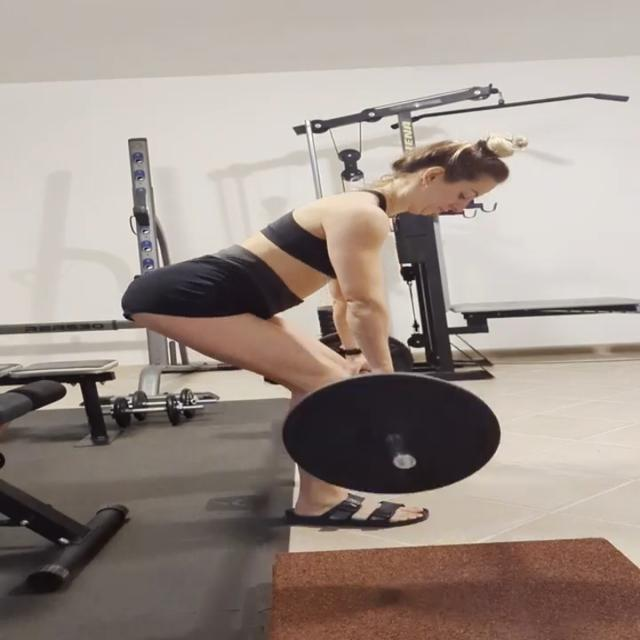barbell: (282, 371, 506, 499)
